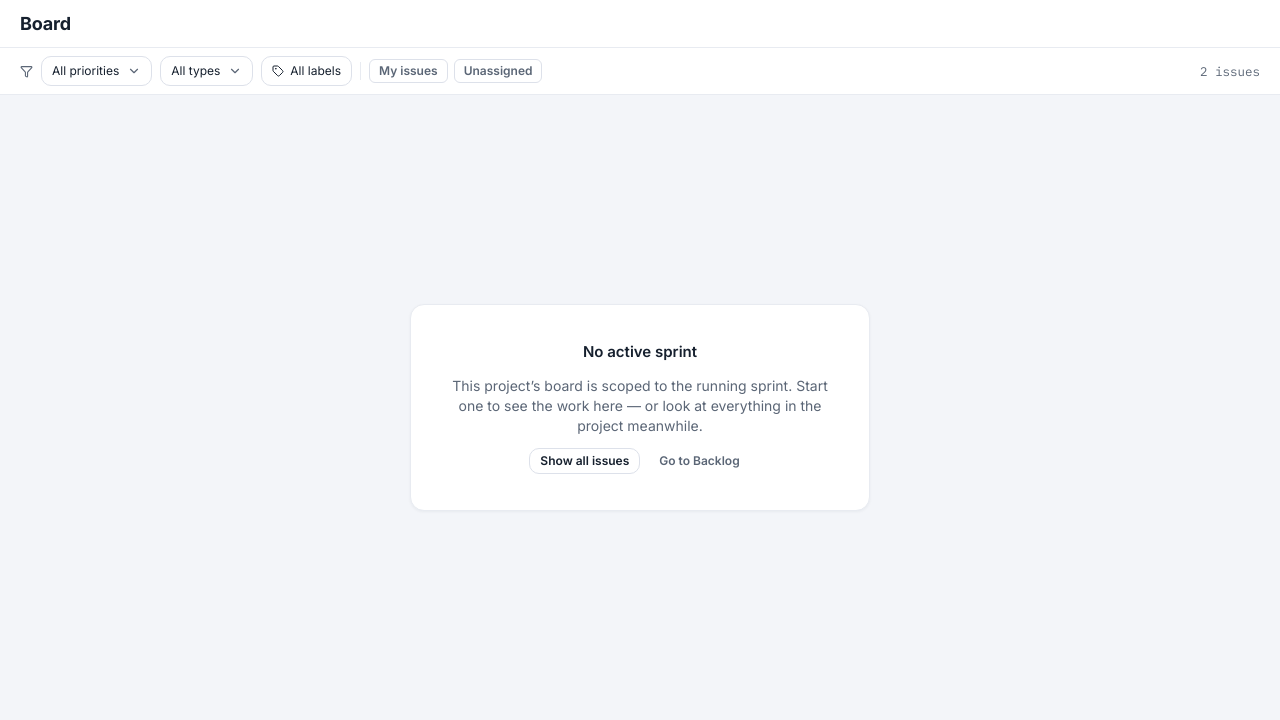
Scenario: Board — the "no active sprint" empty state is actionable (HD-102 §6) › lets ANY member drop the sprint scoping locally, without changing the project
The image size is (1280, 720).
Check: the text "No active sprint" is shown, box top-left (583, 341), bottom-right (697, 364)
Click the button "Show all issues" at (585, 461), box top-left (529, 448), bottom-right (640, 474)
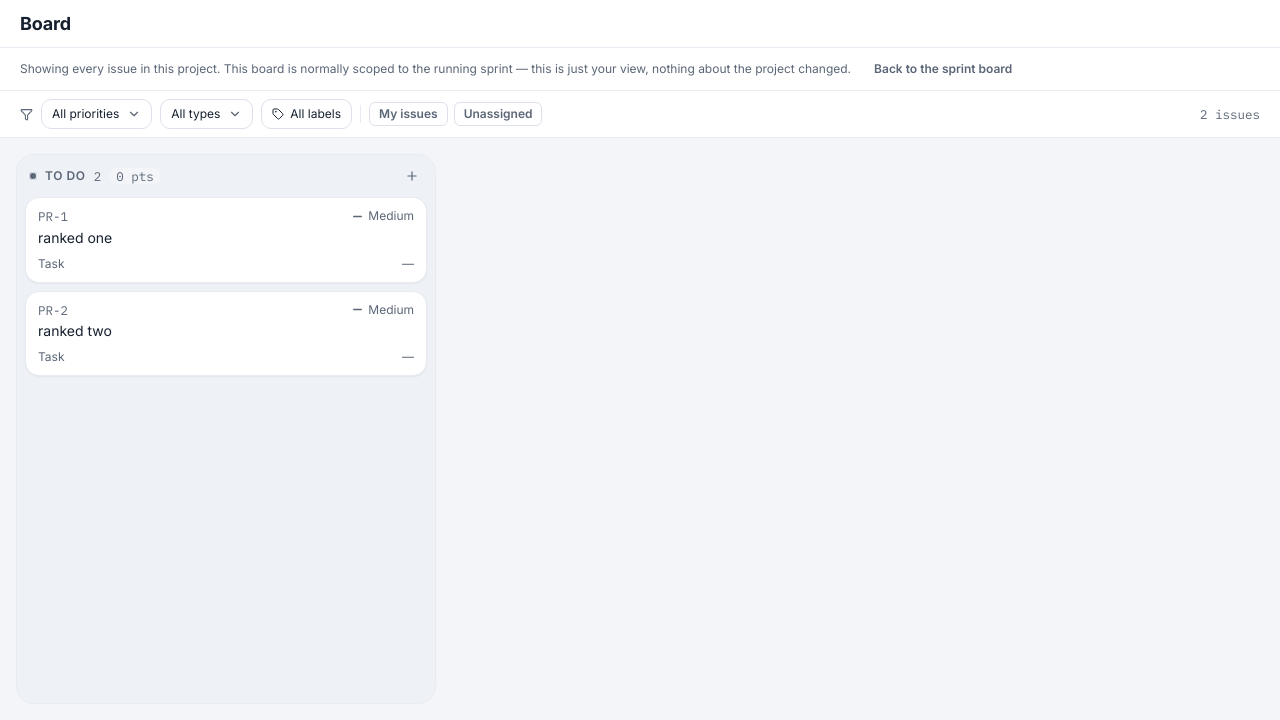
Check: the text "ranked one" is shown, box top-left (38, 229), bottom-right (112, 246)
…and it is reversible on the spot.
Click the button "Back to the sprint board" at (943, 69), box top-left (863, 56), bottom-right (1023, 82)
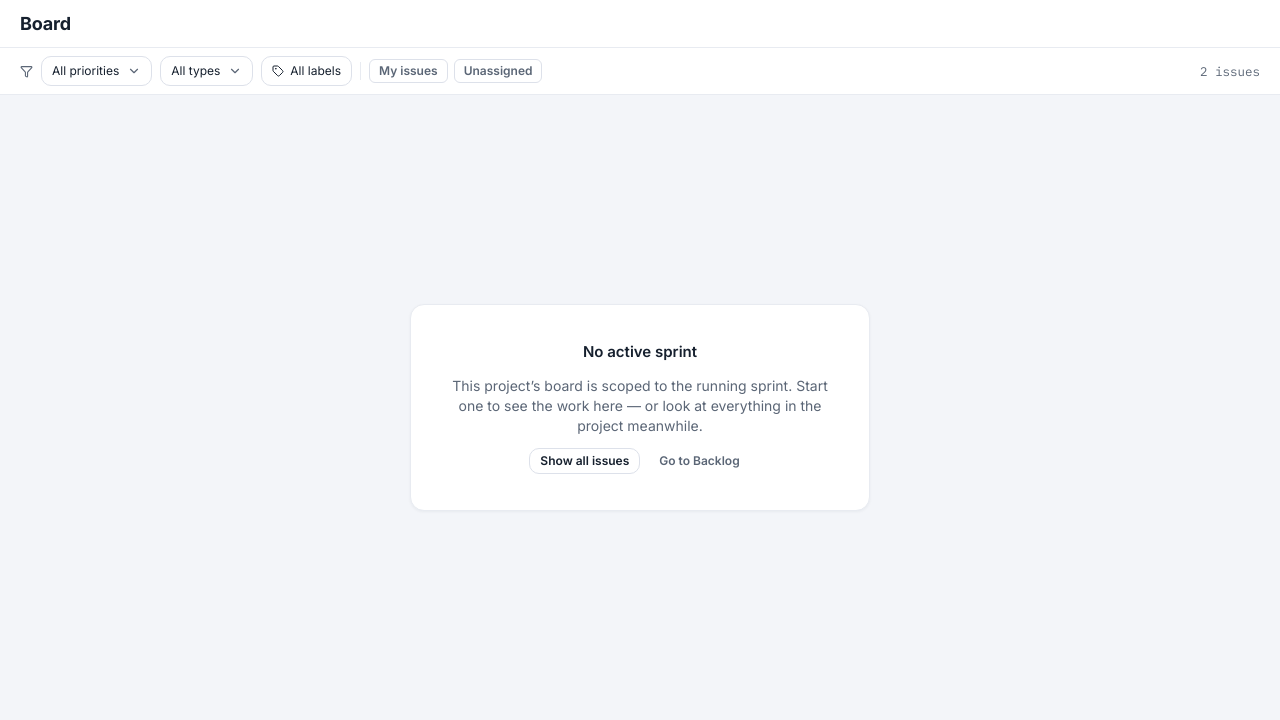
Check: the text "No active sprint" is shown, box top-left (583, 341), bottom-right (697, 364)
